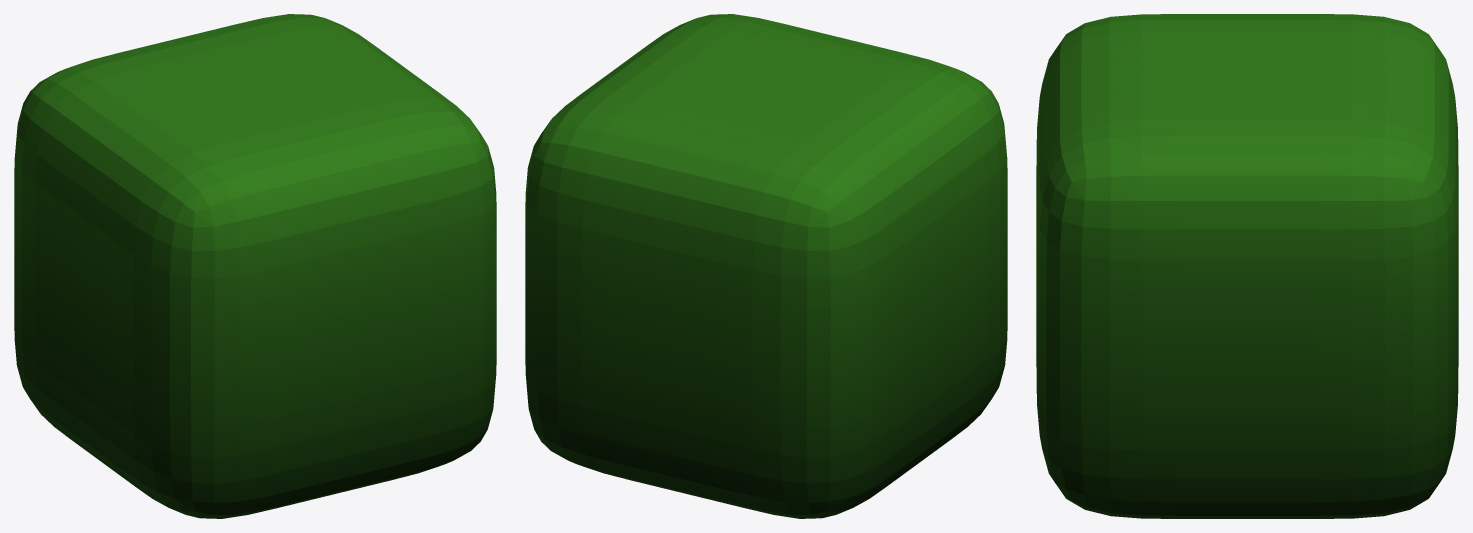
The model's file is Prefab_Foliage_Bush_Cube_Subdiv.glb.
3 renders of one model, left to right at view 1: azimuth 30°, elevation 25°; view 2: azimuth 150°, elevation 25°; view 3: azimuth 270°, elevation 25°, orthographic. The views are drawn at different scales.
Parts seen in each view (by area): view 1: Bush_Cube_B; view 2: Bush_Cube_B; view 3: Bush_Cube_B.
Part boxes in pixels (x1=…): Bush_Cube_B: x1=14, y1=14, x2=496, y2=518; Bush_Cube_B: x1=525, y1=14, x2=1007, y2=518; Bush_Cube_B: x1=1036, y1=14, x2=1458, y2=518.
Bounding box in the file's own units: 0.6096 × 0.6096 × 0.6096.
Materials: 1 (1 with a texture image).
